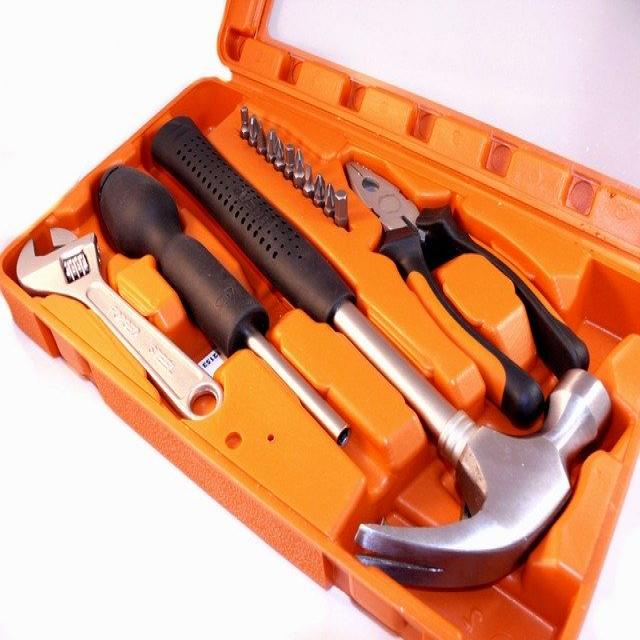Screwdriver: (99, 165, 349, 444)
